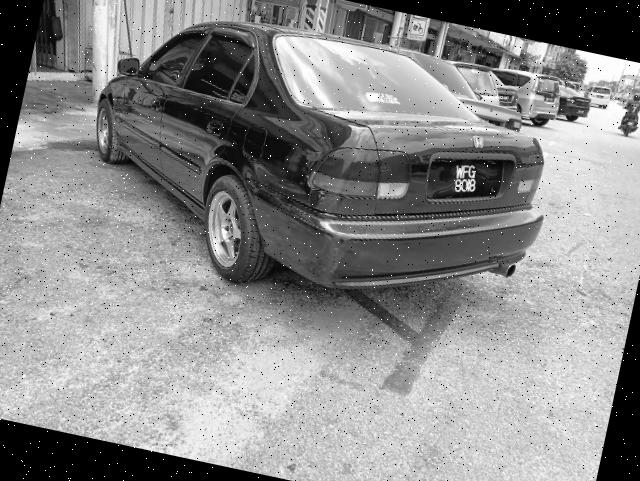License_Plate: (441, 155, 494, 207)
car: (61, 1, 574, 348)
